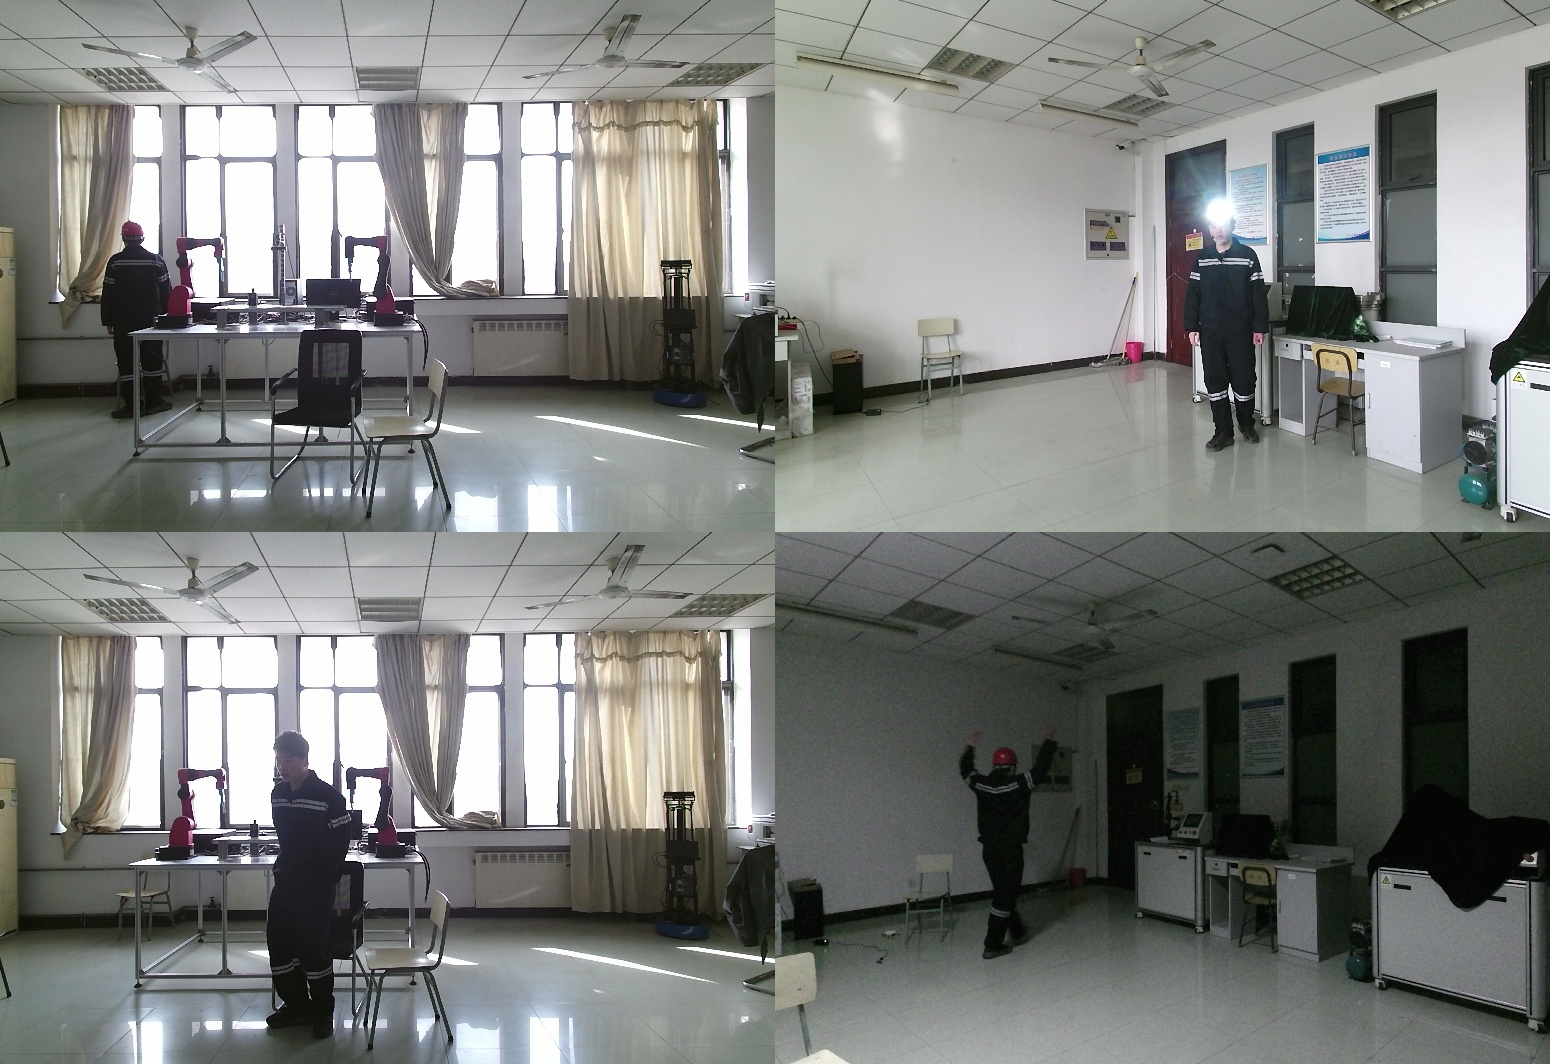person: (264, 731, 364, 1033), (953, 726, 1065, 969), (1191, 205, 1281, 452), (92, 222, 177, 424)
